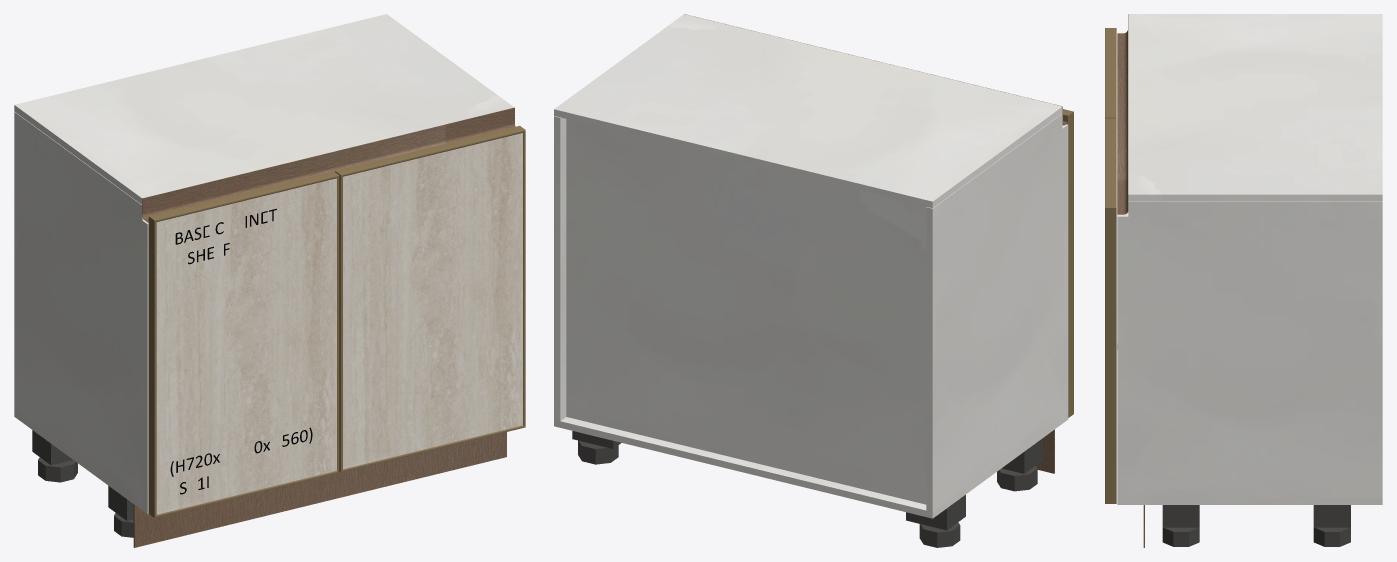
Rendered from BC-SH-CJ-ST-1SX-2HS-XXX-900-720-560-15.glb.
The picture shows the model from 3 angles, left to right: view 1: azimuth 30°, elevation 25°; view 2: azimuth 150°, elevation 25°; view 3: azimuth 270°, elevation 25°; orthographic projection. The views are drawn at different scales.
Parts seen in each view (by area): view 1: Object_node_13, Object_node_11, TP_node_1, TP_node, Object_node_15, ExtrSplGeo, Extrusion_node_1, Extrusion_node_2, Extrusion, Extrusion_node_5, TP, Extrusion_node (+7 smaller); view 2: TP_node_3, TP_node_1, TP_node, TP, TP_node_0, Extrusion_node_1, Plate, Foot, Foot_node_0, Foot_node, Plate_node_0; view 3: TP_node_0, TP_node_1, Extrusion_node_3, ExtrSplGeo, TP, Extrusion, Extrusion_node_2, Plate_node, Plate_node_1, Foot_node_1, Foot_node.
Boxes of the visible parts, left/top/right/bottom form: Object_node_13: left=343, top=133, right=522, bottom=469; Object_node_11: left=156, top=178, right=336, bottom=514; TP_node_1: left=14, top=14, right=514, bottom=204; TP_node: left=14, top=111, right=148, bottom=507; Object_node_15: left=133, top=432, right=506, bottom=547; ExtrSplGeo: left=142, top=107, right=515, bottom=222; Extrusion_node_1: left=148, top=216, right=156, bottom=517; Extrusion_node_2: left=335, top=126, right=525, bottom=176; Extrusion: left=149, top=171, right=339, bottom=221; Extrusion_node_5: left=335, top=171, right=342, bottom=472; TP: left=14, top=410, right=148, bottom=514; Extrusion_node: left=337, top=176, right=339, bottom=472; TP_node_3: left=566, top=119, right=926, bottom=504; TP_node_1: left=554, top=14, right=1062, bottom=208; TP_node: left=926, top=113, right=1068, bottom=511; TP: left=554, top=413, right=1068, bottom=518; TP_node_0: left=554, top=116, right=566, bottom=420; Extrusion_node_1: left=1063, top=112, right=1073, bottom=417; Plate: left=906, top=494, right=965, bottom=530; Foot: left=919, top=522, right=960, bottom=547; Foot_node_0: left=997, top=466, right=1037, bottom=491; Foot_node: left=578, top=440, right=618, bottom=464; Plate_node_0: left=1002, top=438, right=1042, bottom=473; TP_node_0: left=1117, top=201, right=1382, bottom=498; TP_node_1: left=1128, top=14, right=1382, bottom=201; Extrusion_node_3: left=1105, top=208, right=1116, bottom=503; ExtrSplGeo: left=1117, top=14, right=1128, bottom=214; TP: left=1117, top=498, right=1382, bottom=504; Extrusion: left=1105, top=28, right=1116, bottom=117; Extrusion_node_2: left=1105, top=118, right=1116, bottom=207; Plate_node: left=1313, top=505, right=1350, bottom=527; Plate_node_1: left=1162, top=505, right=1199, bottom=527; Foot_node_1: left=1162, top=527, right=1199, bottom=546; Foot_node: left=1313, top=527, right=1350, bottom=546.
Size of what is drawn, in the model's own units: 0.9 by 0.82 by 0.5899.
6 materials, 3 textured.
